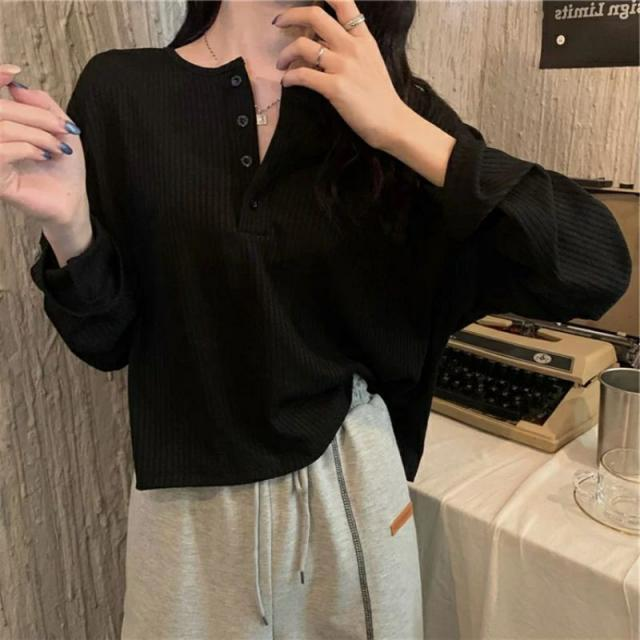Shirt: (21, 39, 636, 498)
